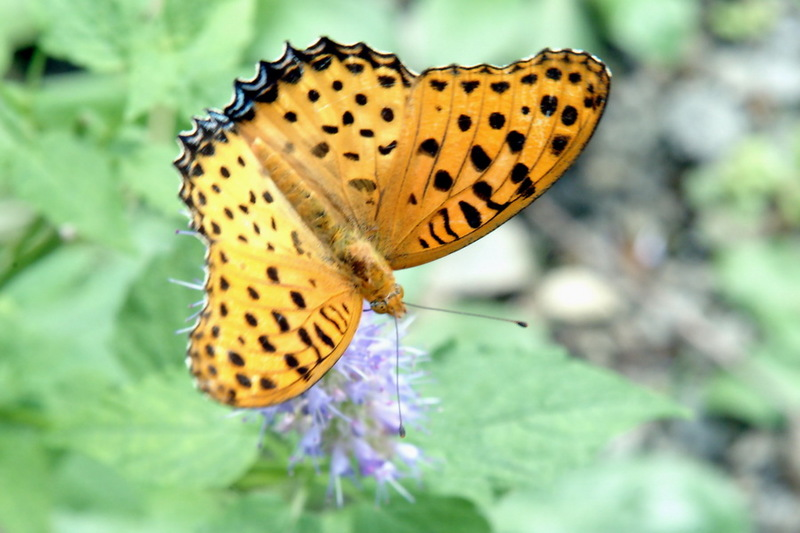Argyreus hyperbius: (165, 20, 612, 441)
butterfly: (167, 22, 614, 443)
